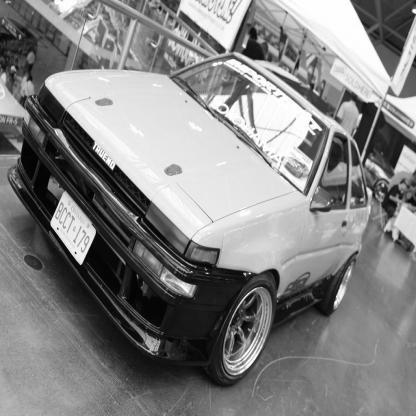car: (18, 20, 382, 402)
